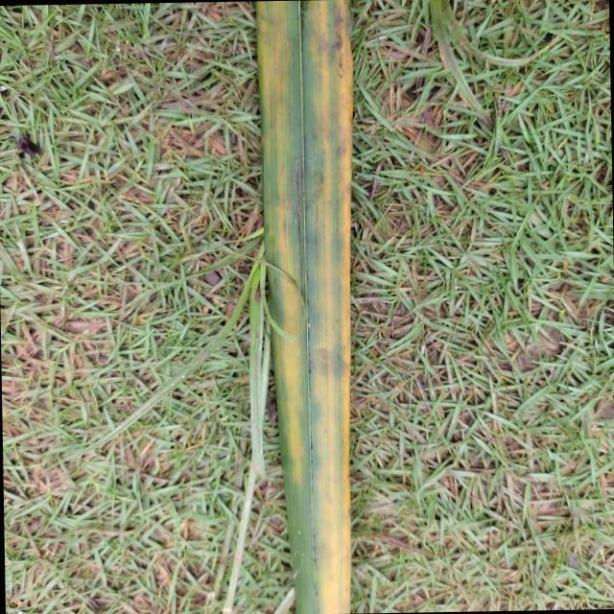Megnesium: (257, 1, 354, 614)
